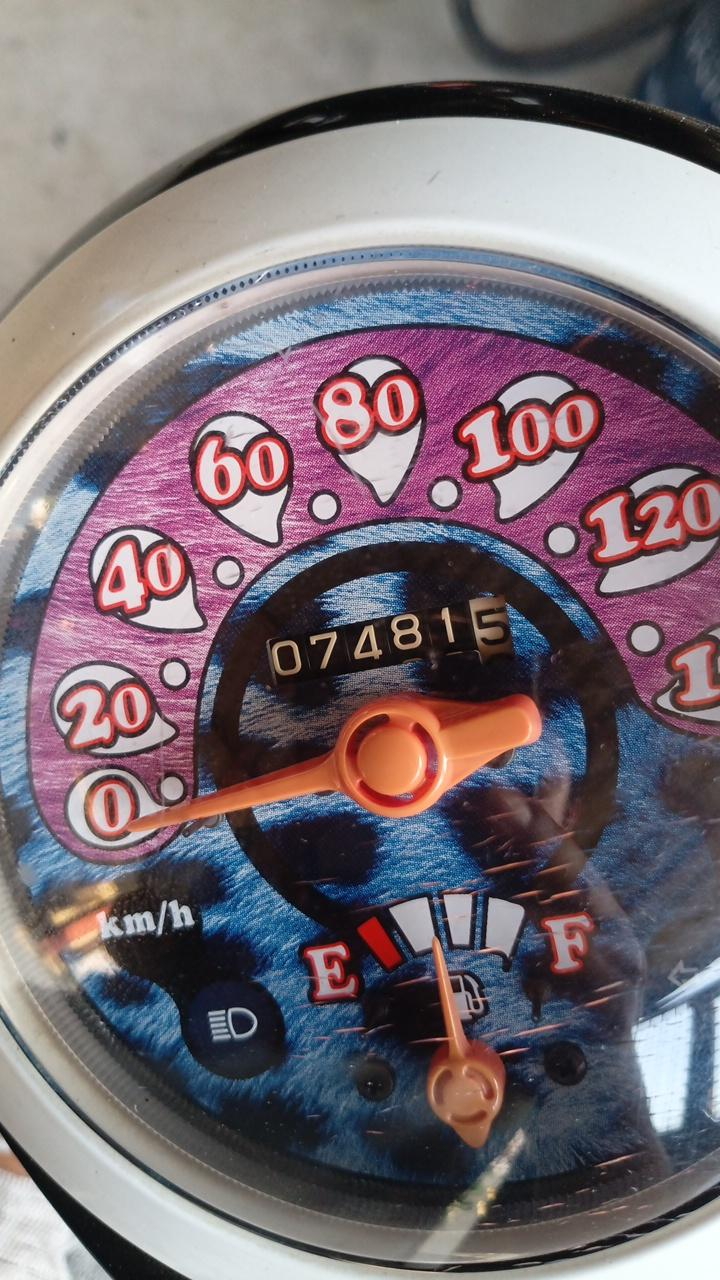0: (272, 640, 302, 677)
1: (439, 605, 455, 644)
4: (352, 624, 384, 663)
5: (474, 603, 510, 647)
7: (310, 631, 337, 670)
8: (391, 613, 423, 651)
odometer: (264, 592, 517, 691)
